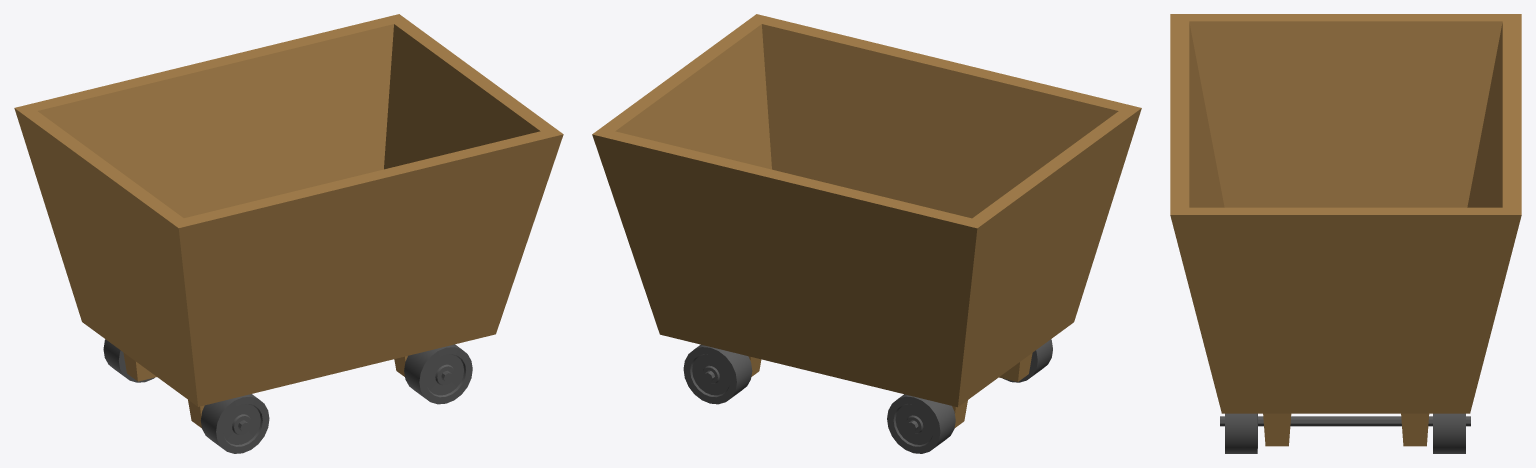
The model's file is chariot.fbx.
The picture shows the model from 3 angles, left to right: view 1: azimuth 30°, elevation 25°; view 2: azimuth 150°, elevation 25°; view 3: azimuth 270°, elevation 25°; orthographic projection. The views are drawn at different scales.
Visible parts, largest first — view 1: chariot; view 2: chariot; view 3: chariot.
Boxes of the visible parts, bbox=[...] form: chariot: bbox=[14, 14, 563, 453]; chariot: bbox=[592, 14, 1141, 453]; chariot: bbox=[1170, 14, 1521, 453].
Bounding box in the file's own units: 20.58 × 13.58 × 15.22.
